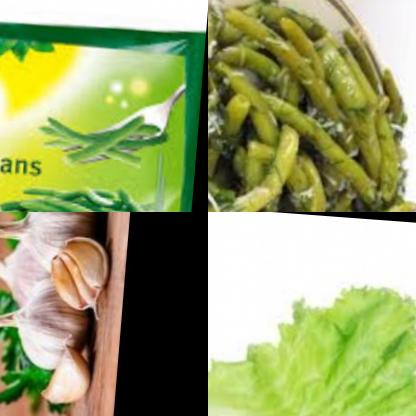fasol: (208, 0, 416, 212), (0, 158, 191, 212), (35, 100, 179, 168)
garlic: (0, 272, 102, 370), (0, 212, 107, 275), (46, 229, 111, 310), (44, 329, 103, 406), (0, 235, 58, 308)
salad: (208, 262, 416, 416)
